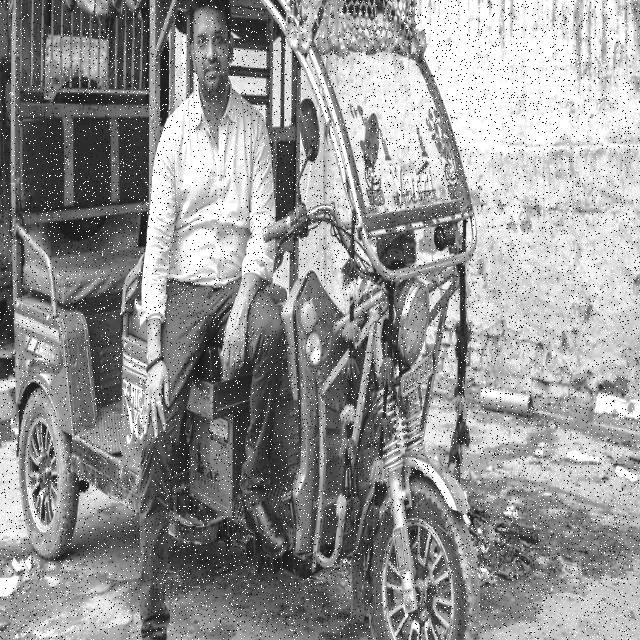Toto: (6, 0, 476, 640)
